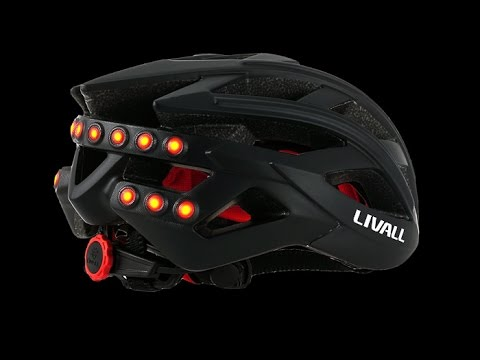with_helmet: (52, 33, 425, 299)
